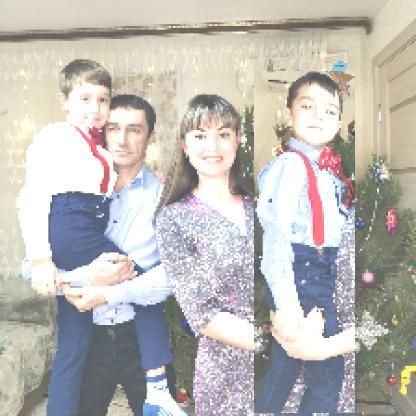child: (20, 59, 189, 416), (256, 72, 358, 415)
